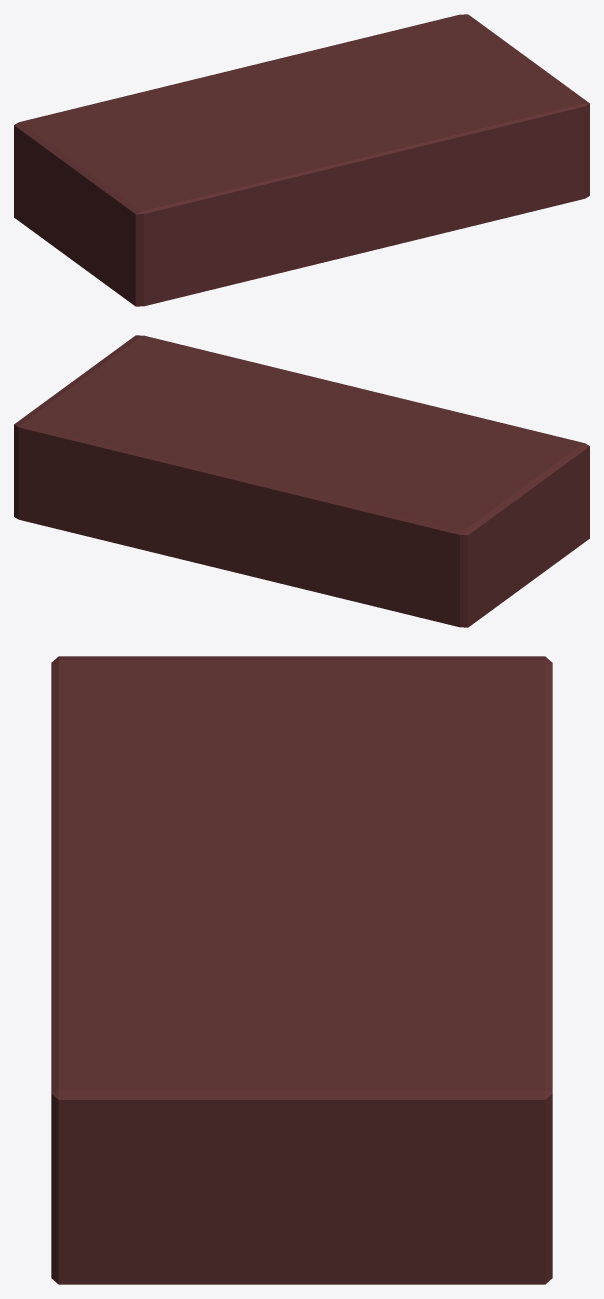
Rendered from stopbutton.gltf.
3 views of the same model, one above another, from view 1: azimuth 30°, elevation 25°; view 2: azimuth 150°, elevation 25°; view 3: azimuth 270°, elevation 25° (orthographic). The views are drawn at different scales.
Parts seen in each view (by area): view 1: stop; view 2: stop; view 3: stop.
Part boxes in pixels (x1,y1,x2,y2): stop: [14, 14, 589, 306]; stop: [14, 335, 589, 627]; stop: [51, 656, 552, 1284].
Size of the model in its own units: 1.8 by 0.36 by 0.8603.
